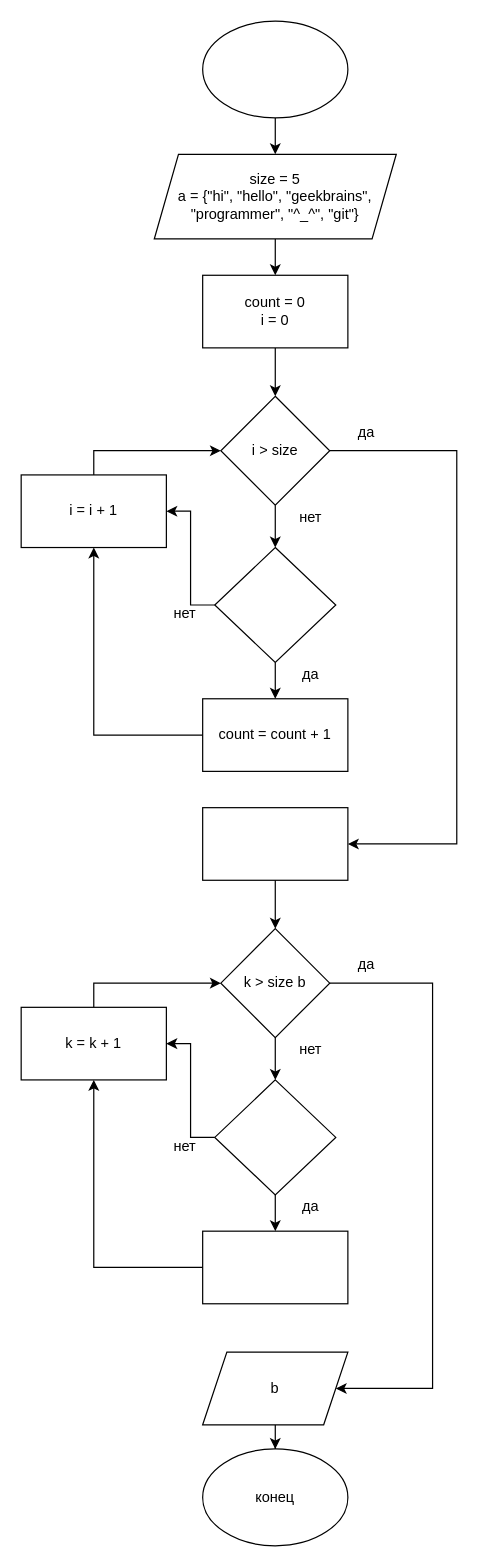
Some shapes in this 488 by 1567 pixel diagram are drawn without their labels. Each missing label, with the box of its shape:
a[i].Length <= 3: (214, 546, 336, 662)
a[k].Length <= 3: (214, 1079, 336, 1195)
b[j] = a[k] j = j + 1: (201, 1230, 348, 1304)
size b = count b = { } j = 0 k = 0: (201, 806, 348, 880)
начало: (201, 20, 348, 118)
